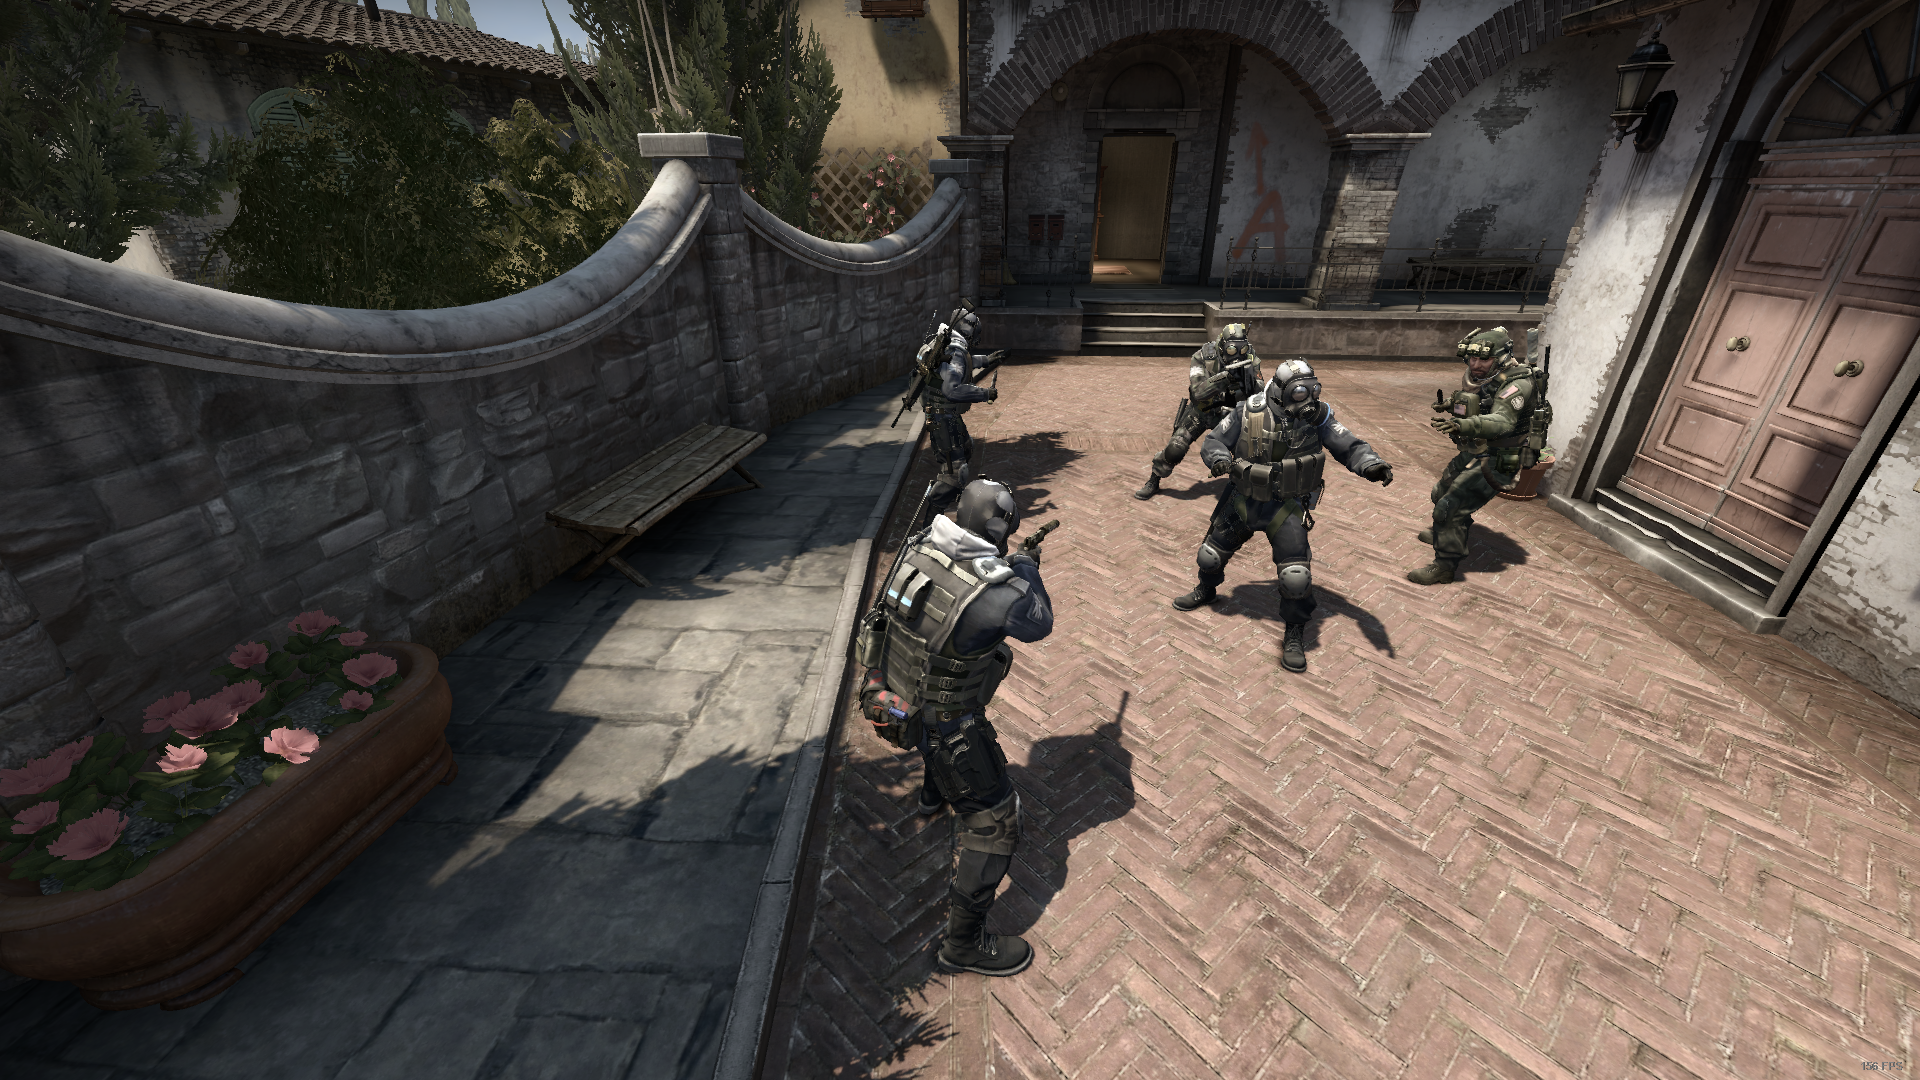ct: (860, 479, 1054, 978), (1174, 360, 1396, 665), (1134, 323, 1269, 518), (913, 305, 1004, 479)
